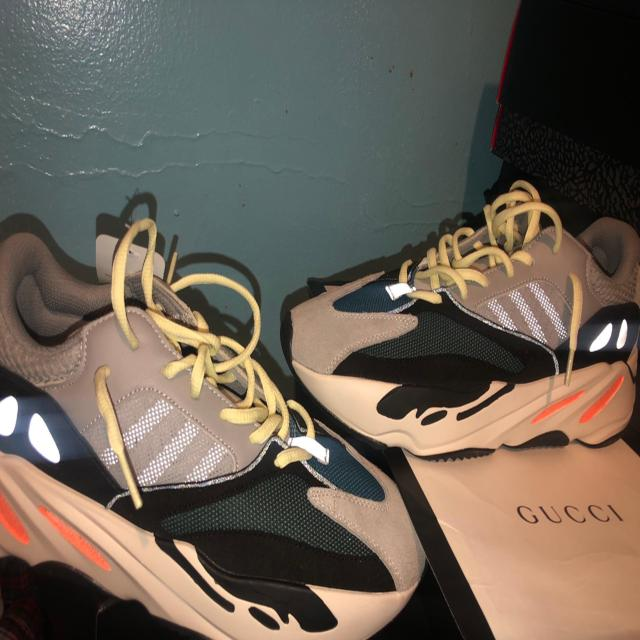shoe: (0, 173, 434, 640), (274, 157, 640, 457)
